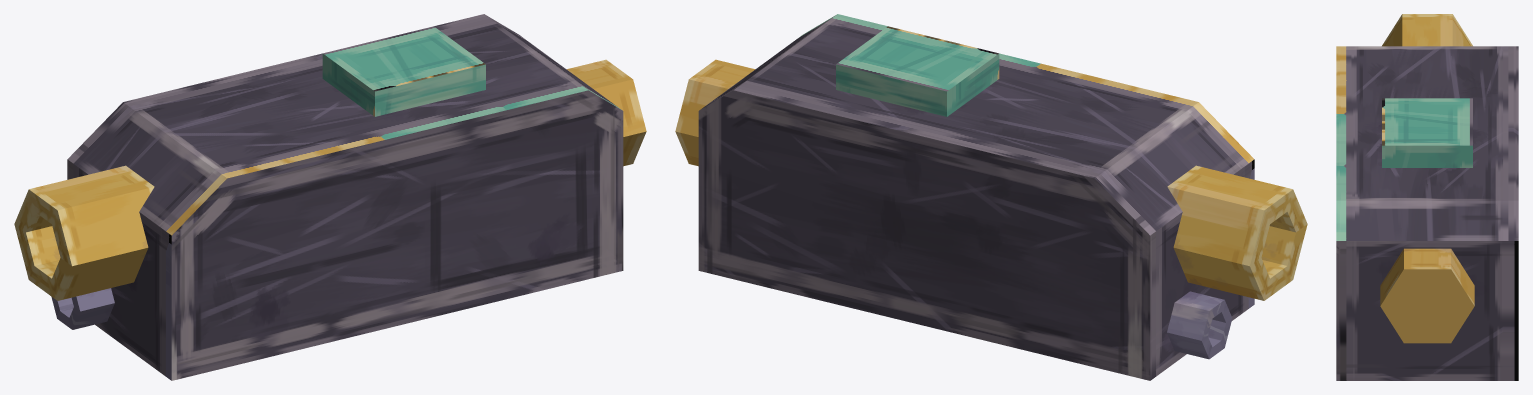
File: att_laser_low.fbx
3 renders of one model, left to right at view 1: azimuth 30°, elevation 25°; view 2: azimuth 150°, elevation 25°; view 3: azimuth 270°, elevation 25°, orthographic. The views are drawn at different scales.
Visible parts, largest first — view 1: att_laser; view 2: att_laser; view 3: att_laser.
Boxes of the visible parts, <box> form: att_laser: <box>14,14,646,380</box>; att_laser: <box>675,14,1307,380</box>; att_laser: <box>1336,14,1518,380</box>.
Size of the model in its own units: 0.3113 by 0.1106 by 0.0975.
1 material, 1 textured.
